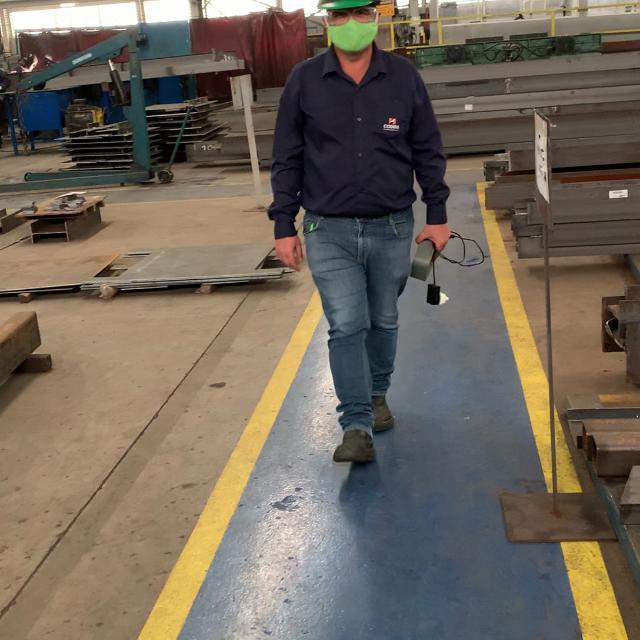eye-glass: (323, 15, 381, 25)
helmet: (317, 1, 378, 10)
mask: (328, 21, 377, 48)
person: (271, 1, 451, 463)
safety-shoe: (331, 431, 379, 462), (371, 394, 401, 433)
